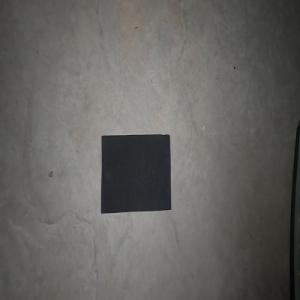PaintChip: (100, 133, 171, 213)
